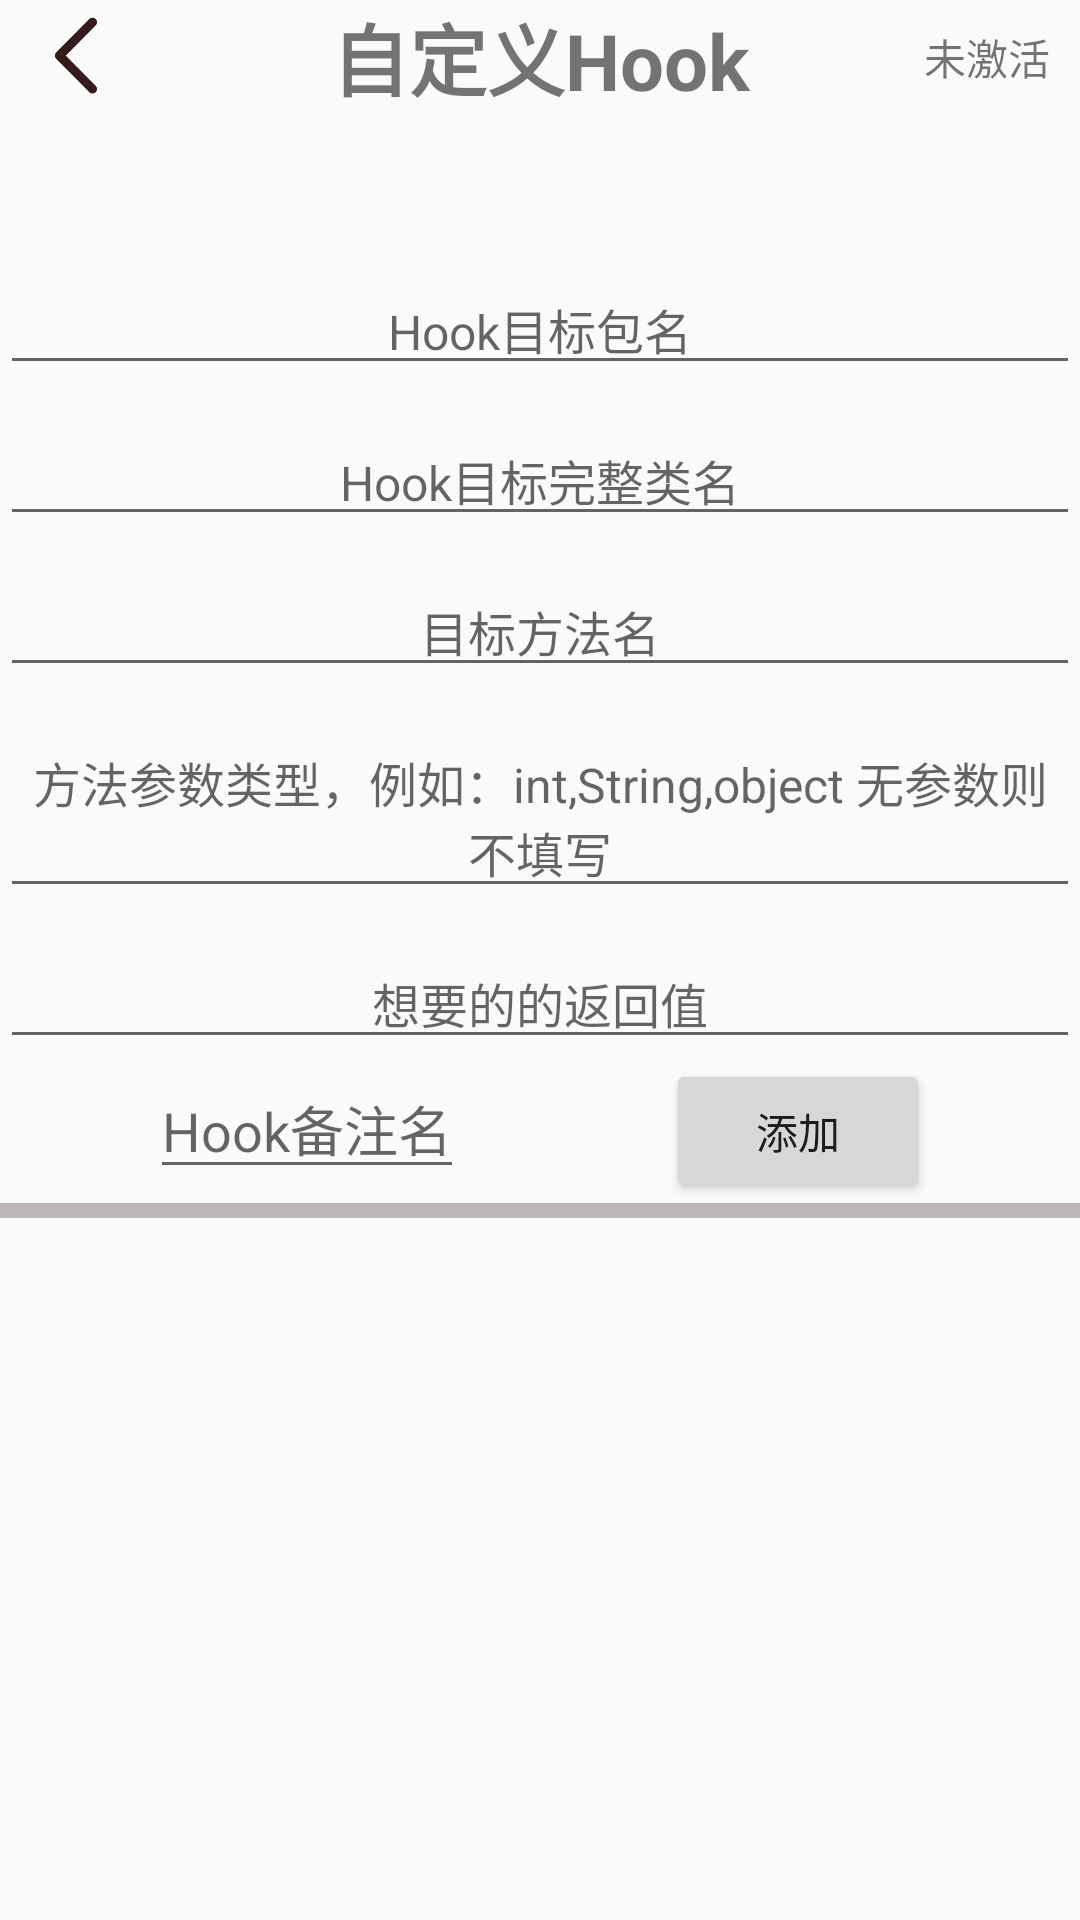

Point at icon controls on the screen. Image size 1080w x 1920h, points as [x,y].
back: [76,55]
